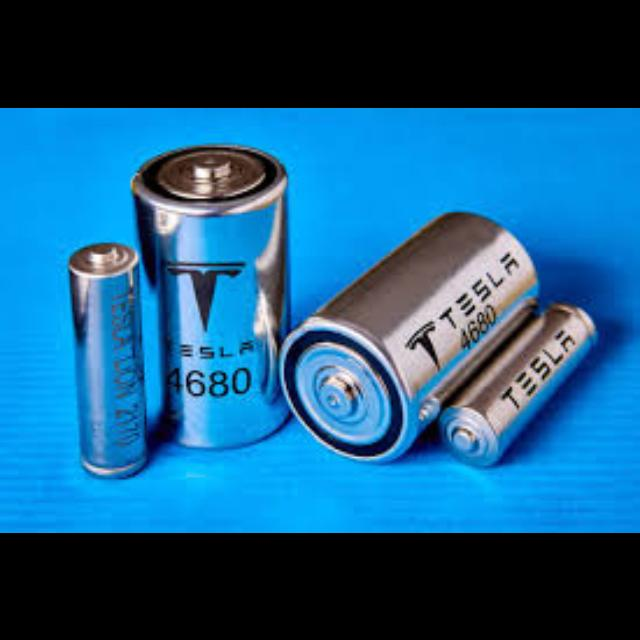Battery: (282, 212, 540, 462), (133, 147, 291, 450), (442, 305, 598, 467), (70, 242, 147, 478)
